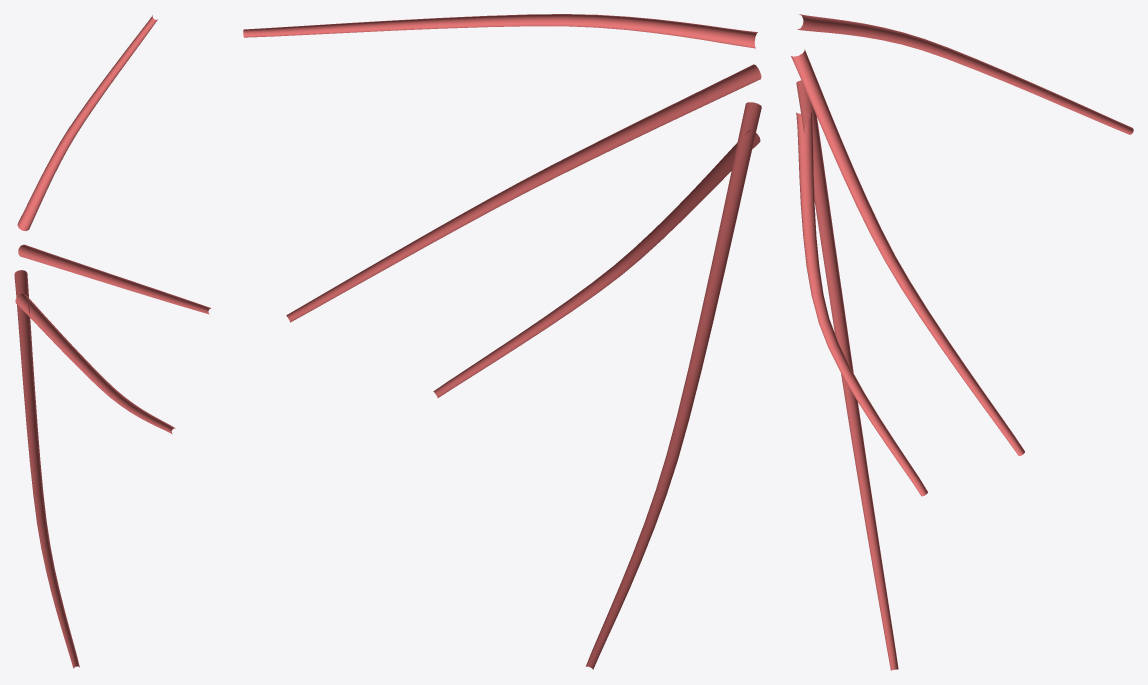
Rendered from anatomyverse-mesenteric.glb.
3 renders of one model, left to right at view 1: azimuth 30°, elevation 25°; view 2: azimuth 150°, elevation 25°; view 3: azimuth 270°, elevation 25°, orthographic. The views are drawn at different scales.
Visible parts, largest first — view 1: zm_ima_branches; view 2: zm_ima_branches; view 3: zm_ima_branches.
Part boxes in pixels (x1,y1,x2,y2): zm_ima_branches: (14,15,210,668); zm_ima_branches: (243,14,761,669); zm_ima_branches: (791,14,1133,670).
Size of the model in its own units: 0.0603 by 0.1078 by 0.0519.
